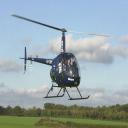helicopter: (11, 16, 108, 101)
